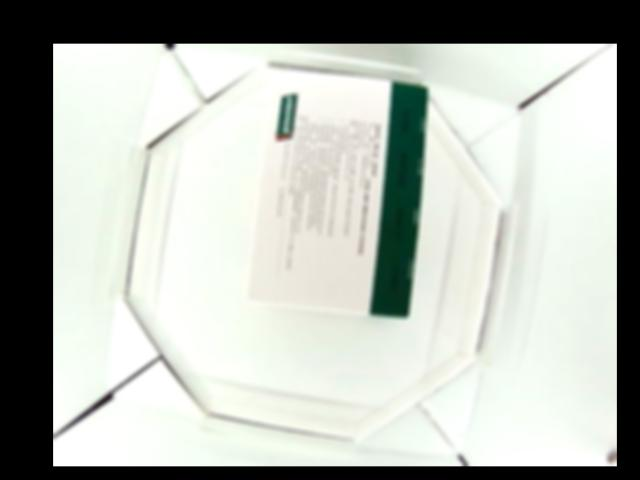Medicine: (243, 73, 429, 320)
